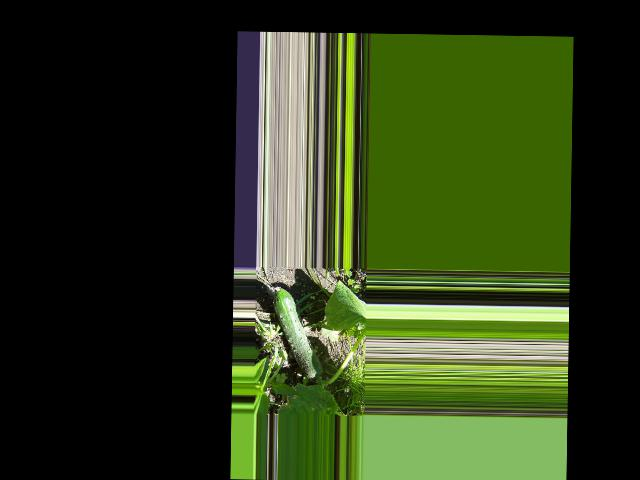cucumber: (271, 287, 323, 380)
